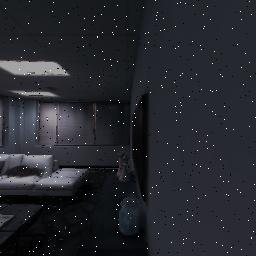sofa: (0, 145, 95, 202)
